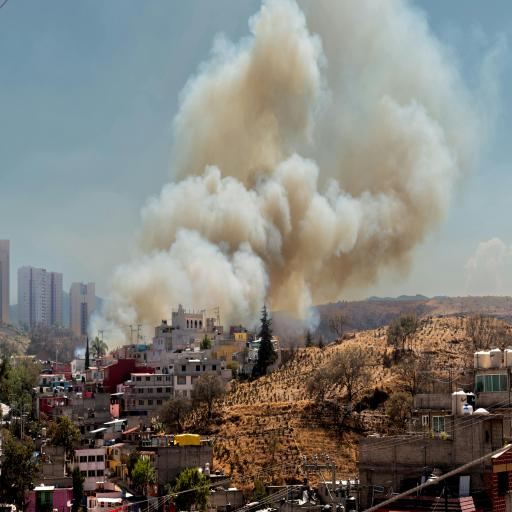smoke: (68, 0, 512, 338)
